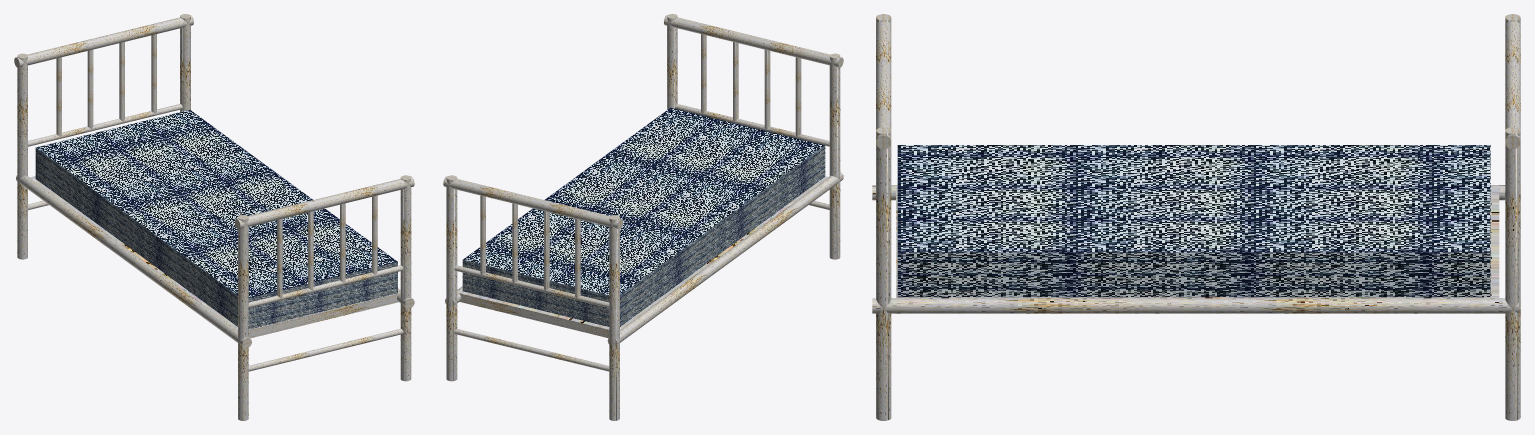
The model's file is clean_bed.glb.
3 views of the same model, side by side, from view 1: azimuth 30°, elevation 25°; view 2: azimuth 150°, elevation 25°; view 3: azimuth 270°, elevation 25° (orthographic). The views are drawn at different scales.
Parts seen in each view (by area): view 1: Куб; view 2: Куб; view 3: Куб.
Part boxes in pixels (<box>): Куб: <box>14,14,414,420</box>; Куб: <box>443,14,843,420</box>; Куб: <box>872,14,1520,420</box>.
Size of the model in its own units: 5.51 by 6.08 by 12.44.
Materials: 2 (2 with a texture image).
